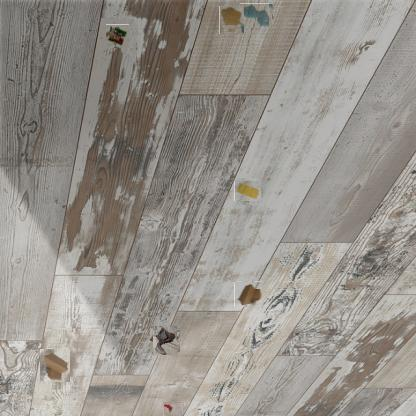dirty: (40, 350, 70, 384), (234, 281, 263, 307), (152, 326, 178, 354), (106, 24, 129, 48), (236, 180, 260, 203), (163, 402, 183, 416)
liquid: (239, 3, 273, 28), (219, 6, 244, 34)
